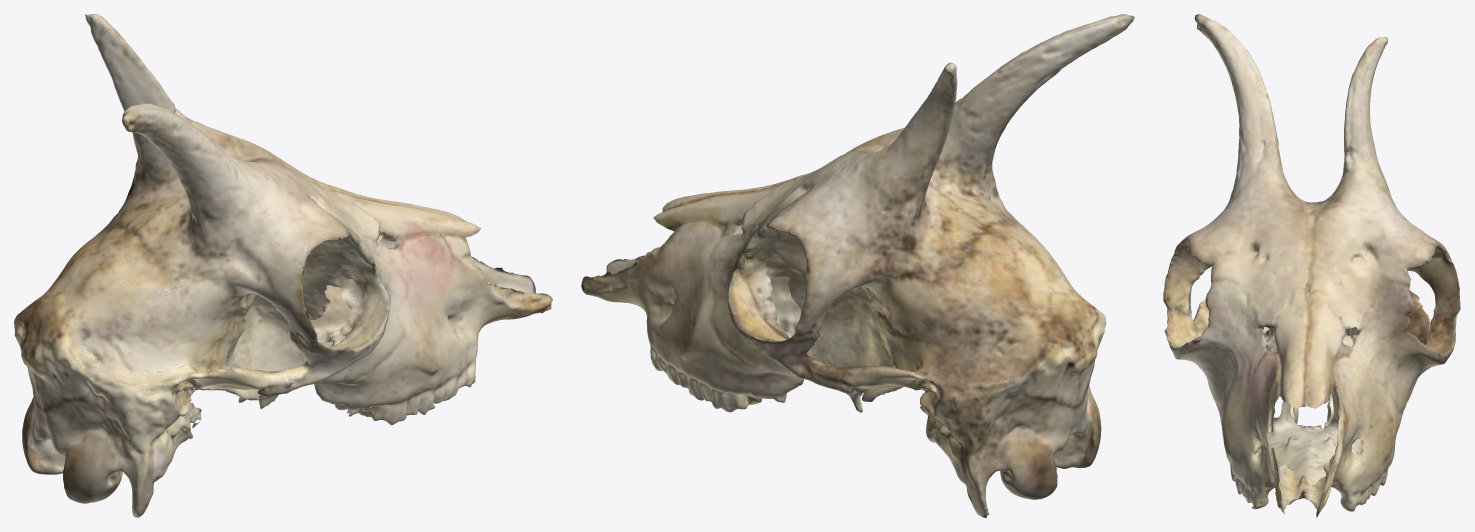
The model's file is cattle.glb.
3 renders of one model, left to right at view 1: azimuth 30°, elevation 25°; view 2: azimuth 150°, elevation 25°; view 3: azimuth 270°, elevation 25°, orthographic. The views are drawn at different scales.
Parts seen in each view (by area): view 1: DomesticGoat1; view 2: DomesticGoat1; view 3: DomesticGoat1.
Boxes of the visible parts, x1,y1,x2,y2 form: DomesticGoat1: [14, 14, 552, 517]; DomesticGoat1: [581, 14, 1134, 517]; DomesticGoat1: [1163, 14, 1460, 517].
Size of the model in its own units: 0.1953 by 0.1606 by 0.1136.
Materials: 1 (1 with a texture image).
